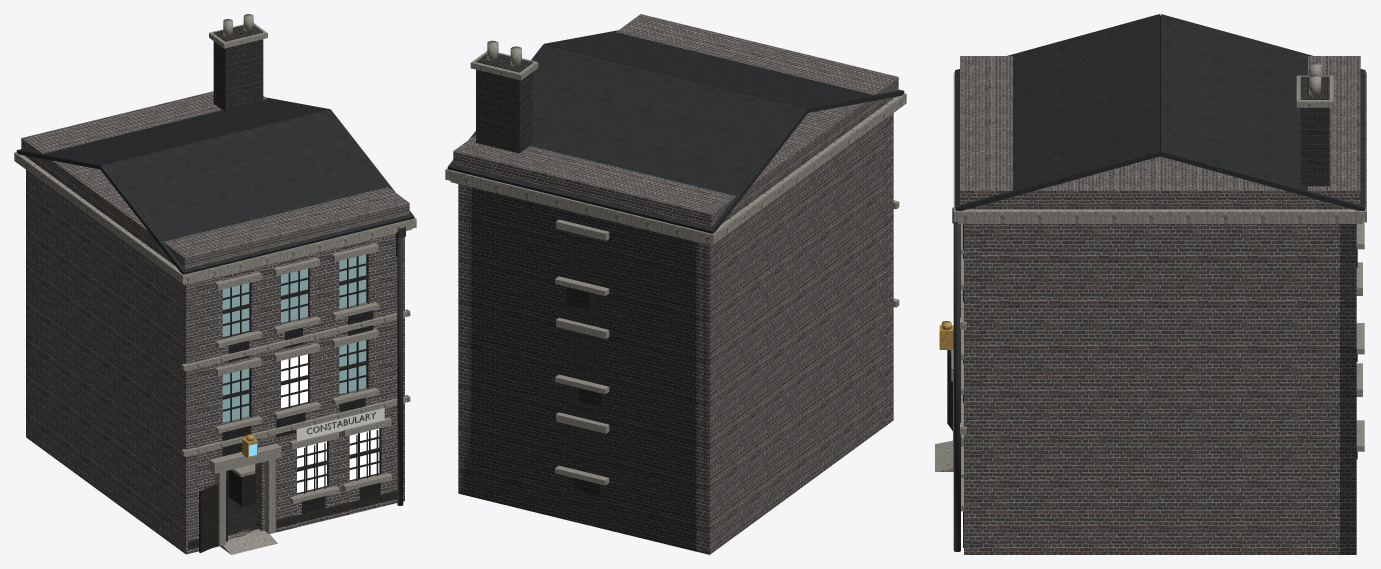
Rendered from prop_ashmoor_constabulary.glb.
3 renders of one model, left to right at view 1: azimuth 30°, elevation 25°; view 2: azimuth 150°, elevation 25°; view 3: azimuth 270°, elevation 25°, orthographic. The views are drawn at different scales.
Visible parts, largest first — view 1: building_ashmoor_constabulary; view 2: building_ashmoor_constabulary; view 3: building_ashmoor_constabulary.
Boxes of the visible parts, x1,y1,x2,y2 form: building_ashmoor_constabulary: [14, 14, 416, 554]; building_ashmoor_constabulary: [445, 14, 906, 554]; building_ashmoor_constabulary: [935, 14, 1366, 554].
Size of the model in its own units: 8 by 12.55 by 10.45.
Materials: 14 (12 with a texture image).
